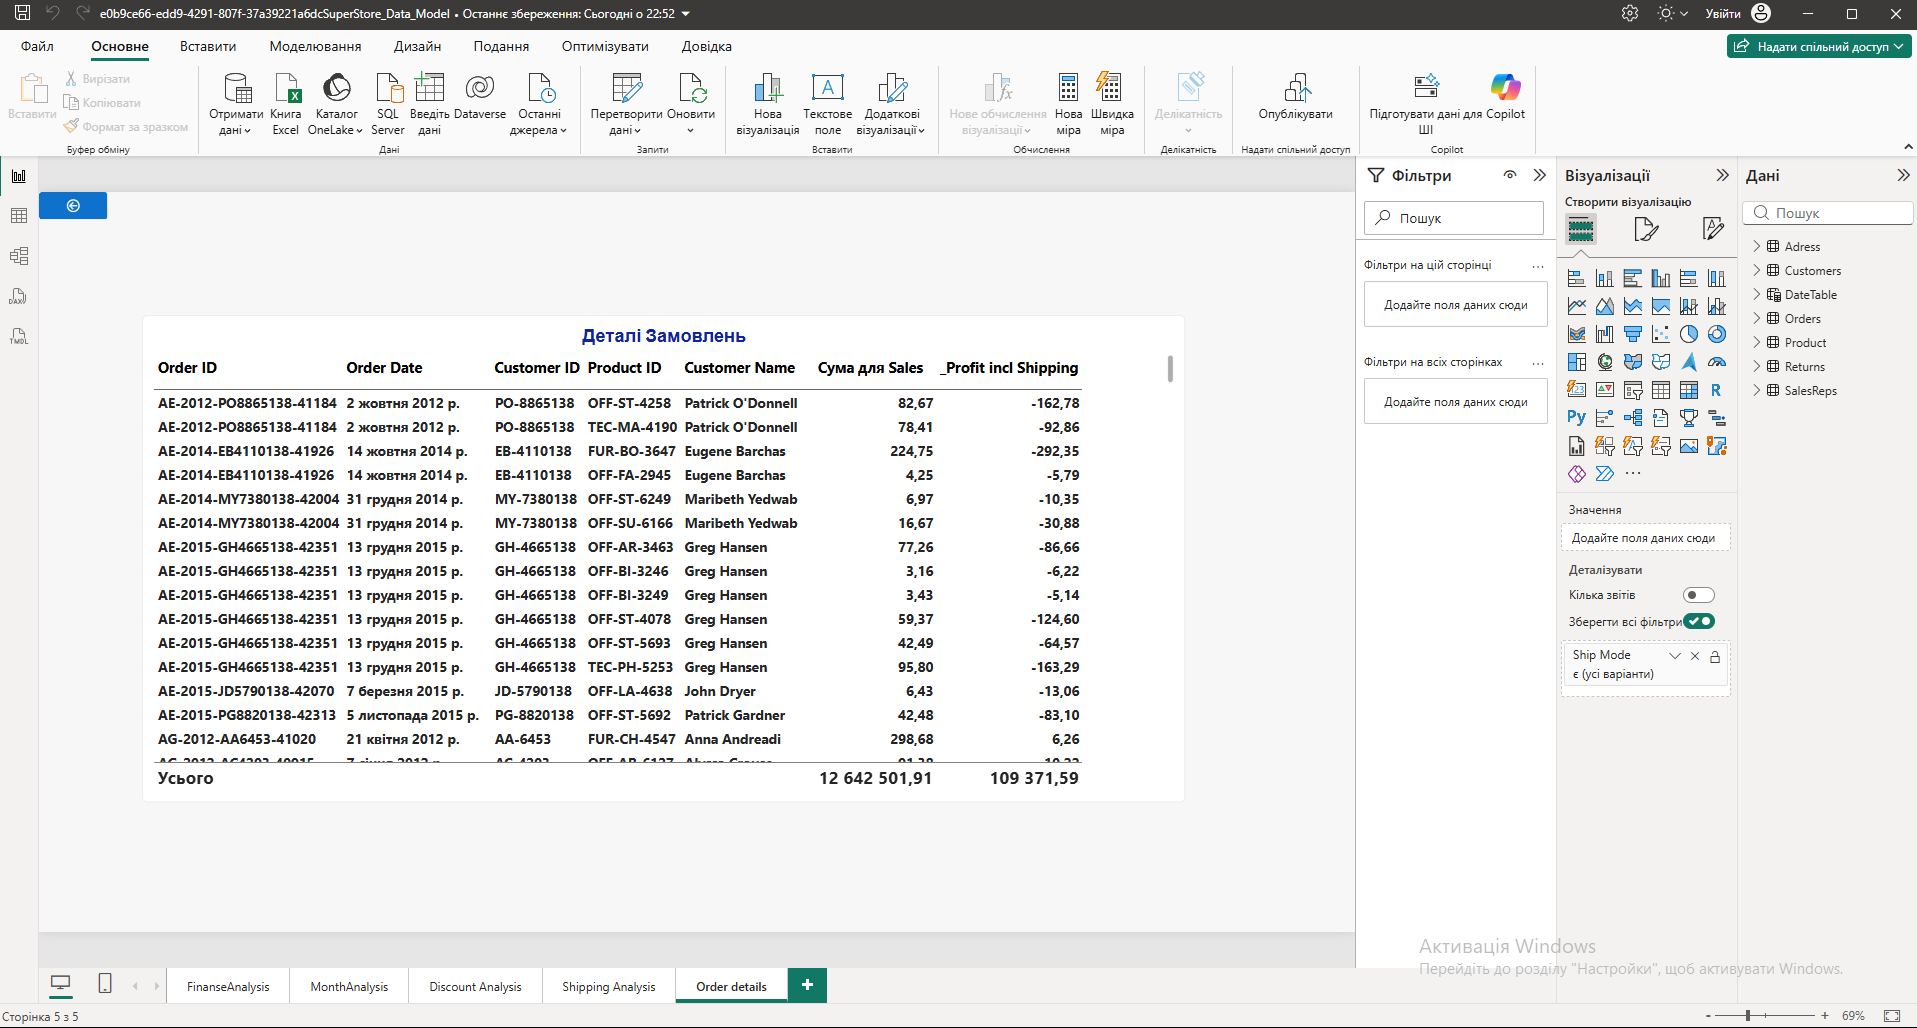

Layout of this report page (visuals, bound fields, positions):
{"tool":"powerbi","page":{"name":"Order details","canvas":[1920,1080],"ordinal":4},"visuals":[{"type":"actionButton","box":[0,0,100,40],"z":0},{"type":"tableEx","title":"Деталі Замовлень","fields":{"Values":["Orders.Order ID","Orders.Order Date","Customers.Customer ID","Orders.Product ID","Customers.Customer Name","Sum(Orders.Sales)","Orders._Profit incl Shipping"]},"box":[150,180,1522.1,710.5],"z":1}]}

Visuals, with their boxes on the page's 1920x1080 design canvas (x1, y1, x2, y2). These are canvas units, not pixel positions in the 1917x1028 screenshot, which may show the page scaled, cropped or inside an application window:
actionButton: 0,0,100,40
"Деталі Замовлень" tableEx: 150,180,1672,890
